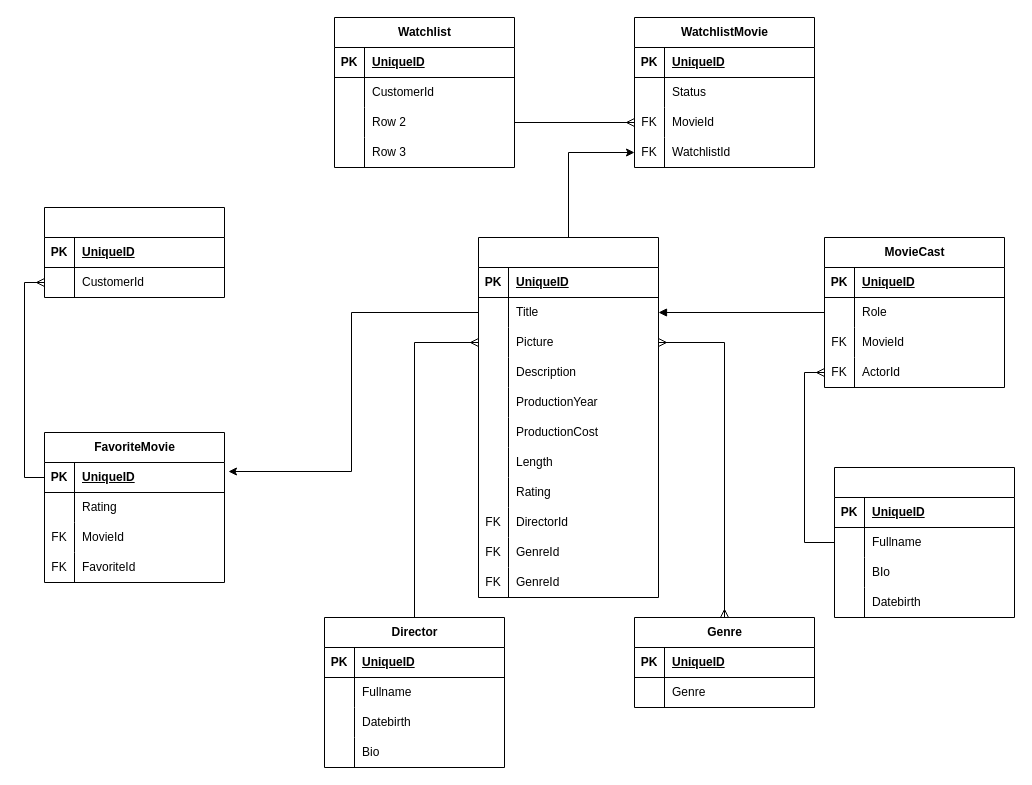
Some shapes in this 1032 by 785 pixel diagram are drawn without their labels. The box of each missing label's shape, as (x1, y1, x2, y2) in pixels:
Actor: (834, 466, 1014, 618)
Favorites: (44, 206, 224, 298)
Movie: (478, 236, 658, 598)
